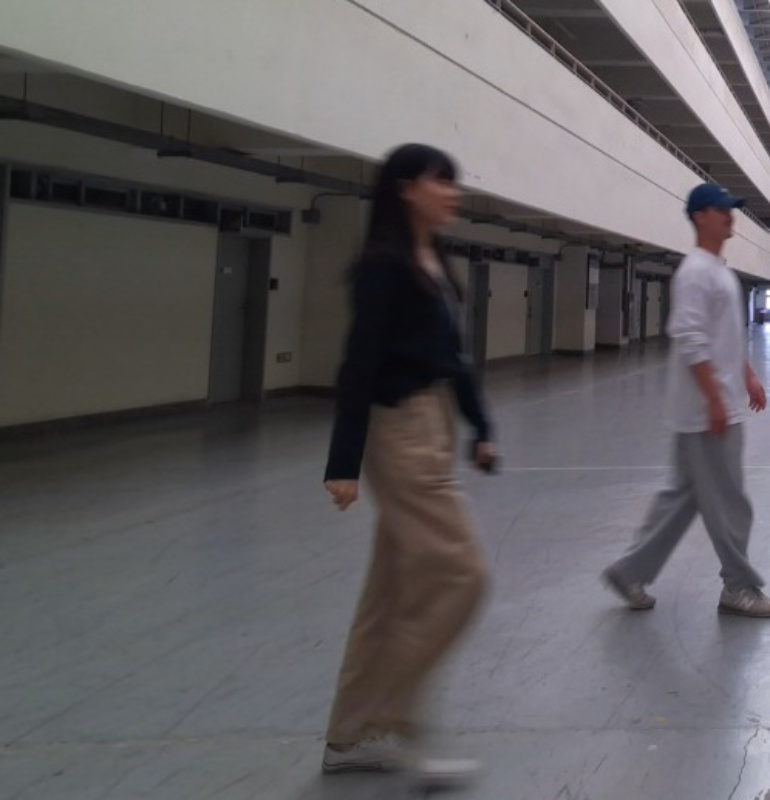person: (596, 184, 770, 618)
